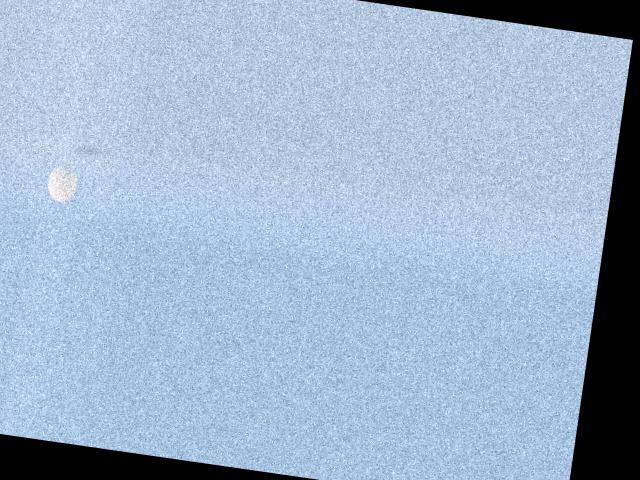egg: (44, 163, 79, 203)
